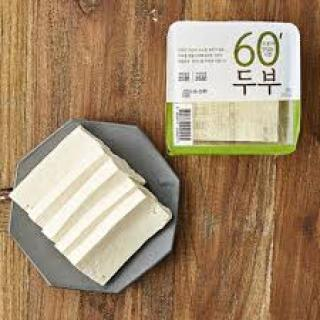Tahu: (4, 126, 186, 291)
